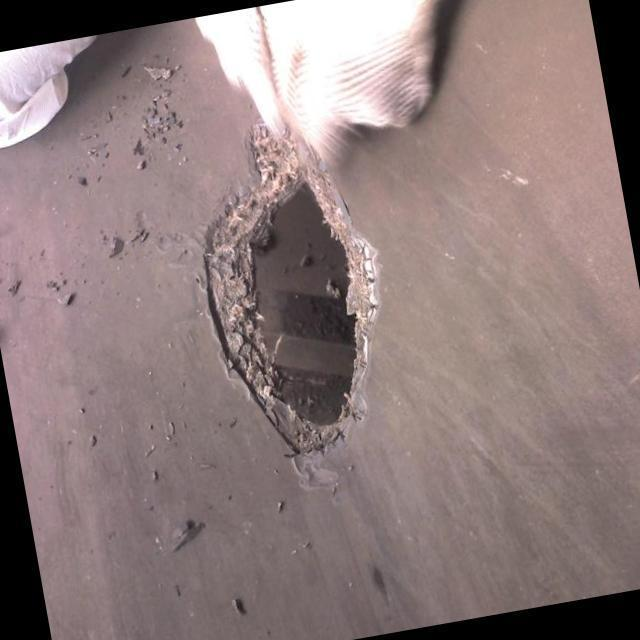Hole: (198, 144, 381, 462)
